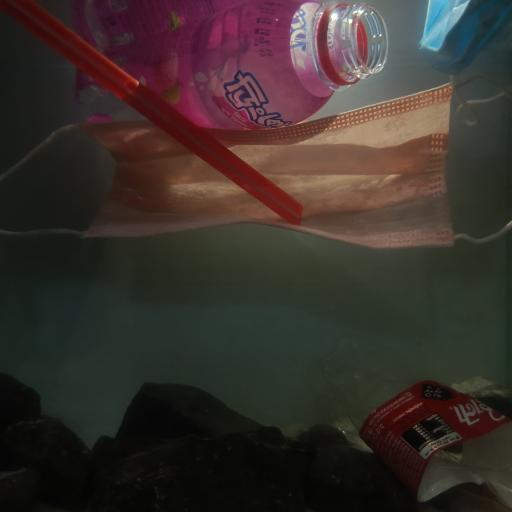mask: (0, 86, 512, 249), (419, 0, 512, 80)
plastic_bottle: (78, 6, 386, 130), (311, 338, 512, 512)
plastic_straw: (0, 0, 304, 224)
